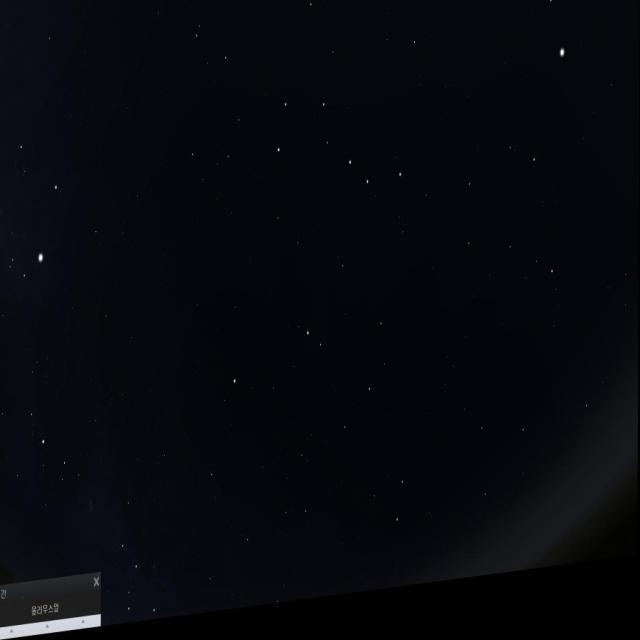cassiopeia: (110, 489, 170, 628)
ursa_major: (267, 78, 408, 227)
